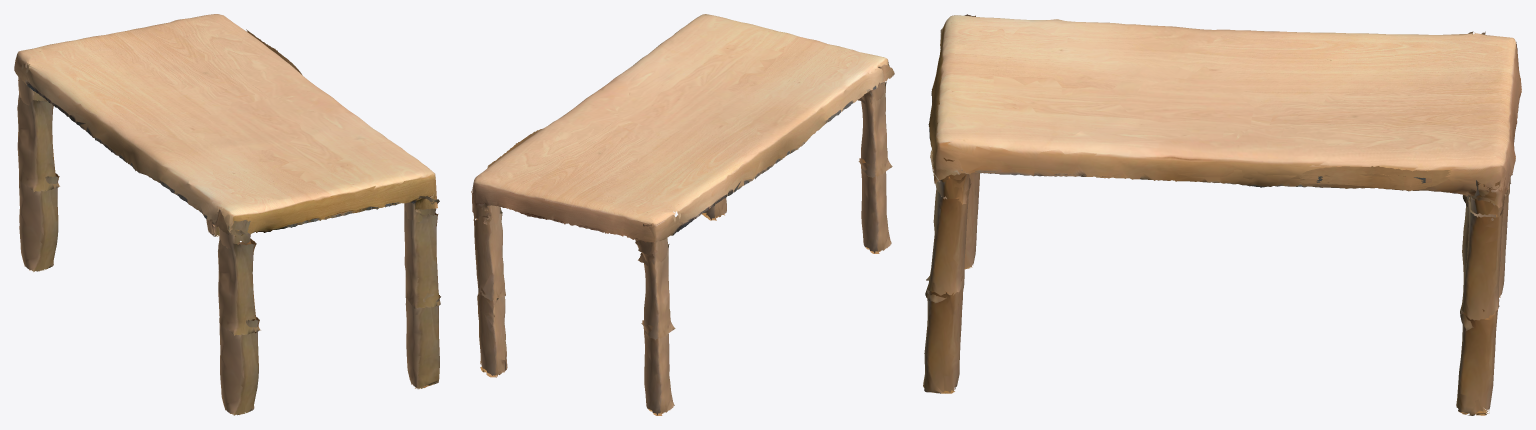
File: Wooden Table.obj
3 renders of one model, left to right at view 1: azimuth 30°, elevation 25°; view 2: azimuth 150°, elevation 25°; view 3: azimuth 270°, elevation 25°, orthographic. The views are drawn at different scales.
Visible parts, largest first — view 1: model_model_material0000, model_model_material0001; view 2: model_model_material0000, model_model_material0001; view 3: model_model_material0001, model_model_material0000.
Part boxes in pixels (bbox=[...]): model_model_material0000: bbox=[14, 16, 440, 415]; model_model_material0001: bbox=[17, 14, 440, 413]; model_model_material0000: bbox=[487, 20, 894, 412]; model_model_material0001: bbox=[471, 14, 888, 415]; model_model_material0001: bbox=[923, 15, 1517, 415]; model_model_material0000: bbox=[923, 14, 1521, 407].
Size of the model in its own units: 2.16 by 2.06 by 3.99.
2 materials, 2 textured.
